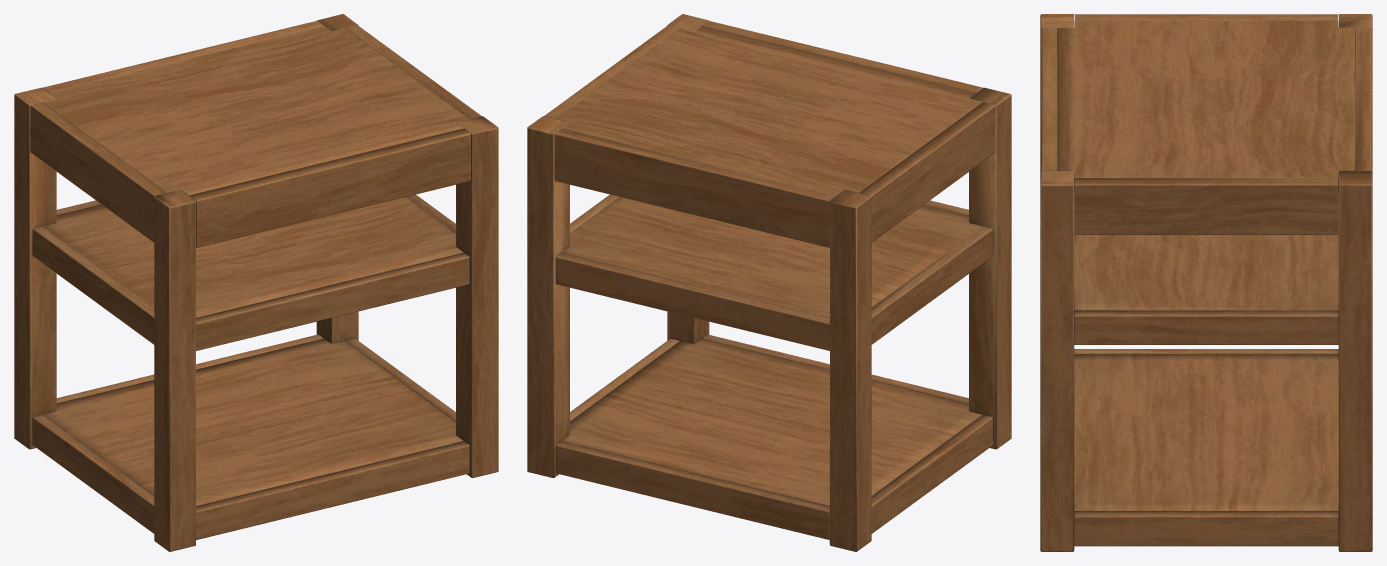
The model's file is ph-side-table-oak-medium.glb.
3 renders of one model, left to right at view 1: azimuth 30°, elevation 25°; view 2: azimuth 150°, elevation 25°; view 3: azimuth 270°, elevation 25°, orthographic. The views are drawn at different scales.
Visible parts, largest first — view 1: side_table_01; view 2: side_table_01; view 3: side_table_01.
Part boxes in pixels (x1,y1,x2,y2): side_table_01: [14, 14, 498, 551]; side_table_01: [527, 14, 1011, 551]; side_table_01: [1040, 14, 1372, 551].
Bounding box in the file's own units: 0.55 × 0.5507 × 0.45.
Materials: 1 (1 with a texture image).
